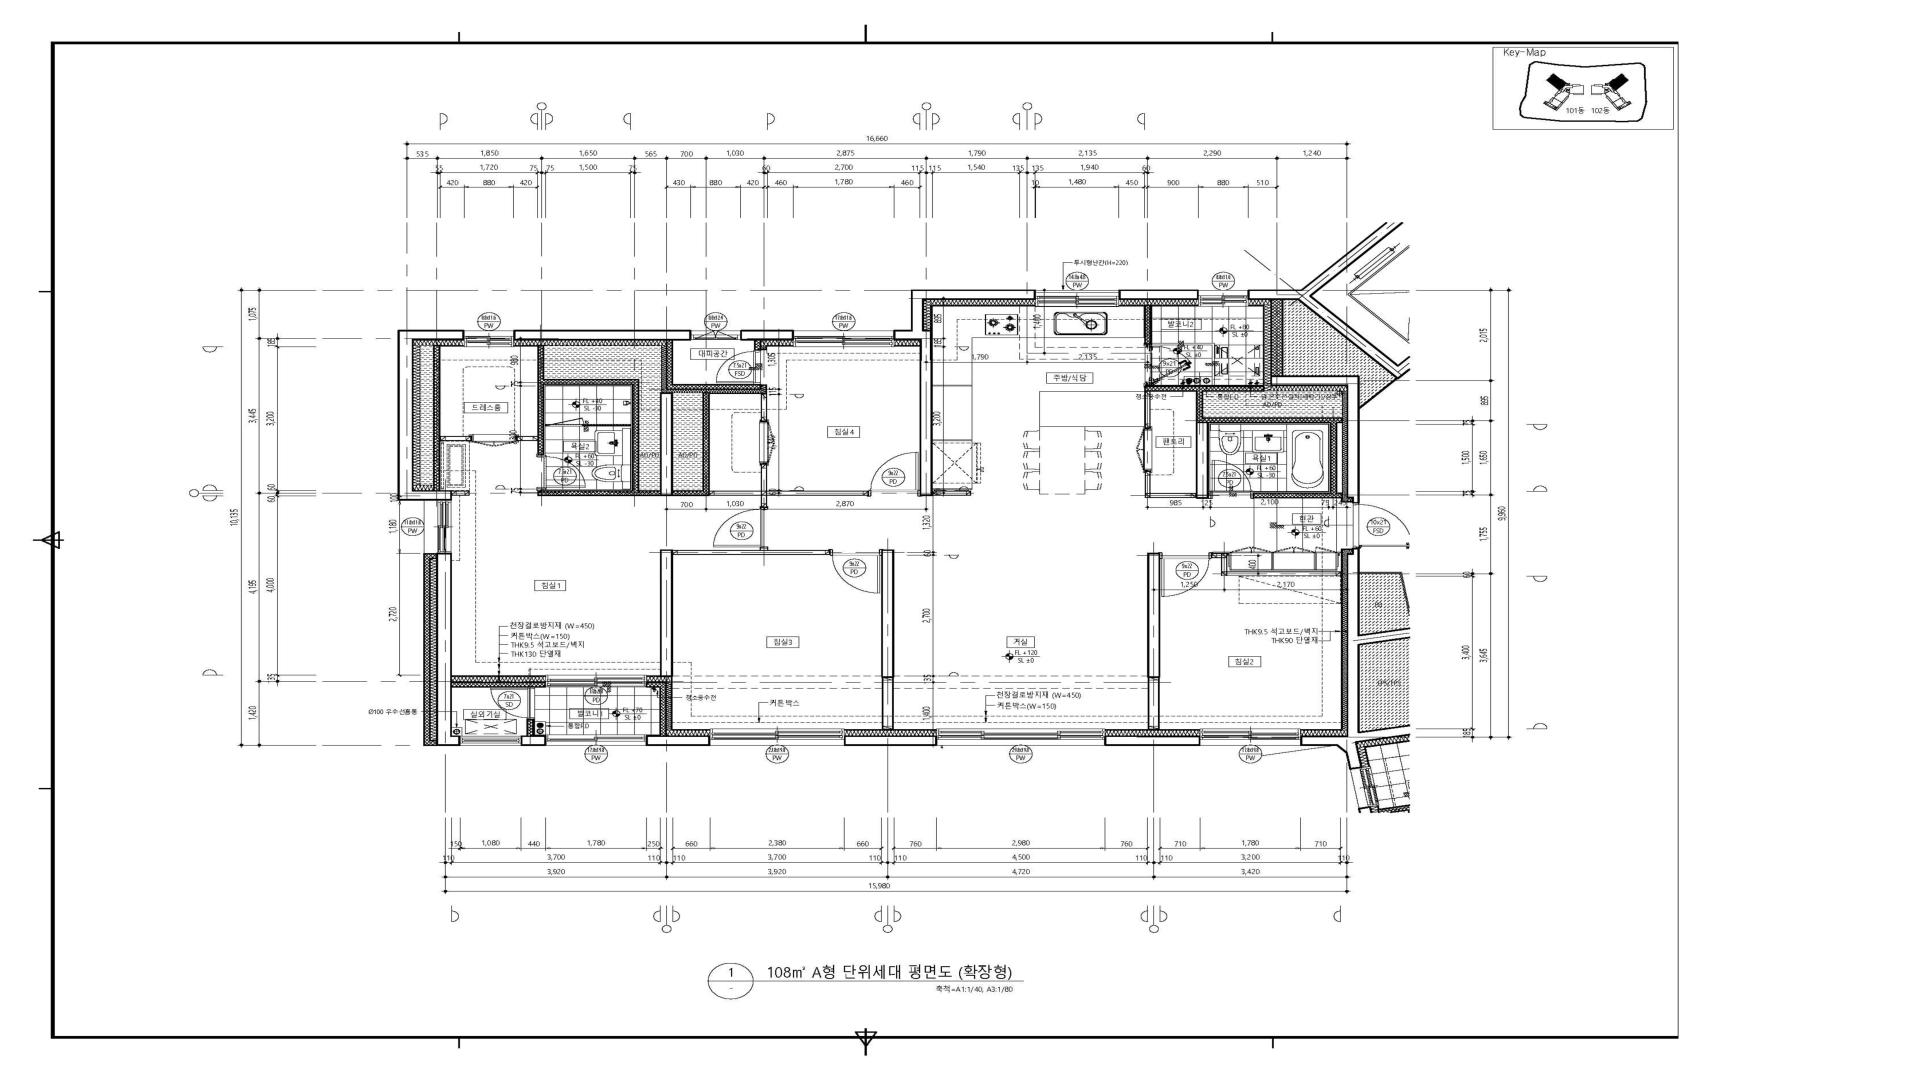door: (1352, 502, 1414, 549), (1160, 553, 1212, 597), (869, 451, 919, 496), (831, 550, 881, 595), (712, 508, 769, 547), (1143, 344, 1195, 385), (537, 455, 585, 491), (1209, 459, 1253, 498), (488, 687, 534, 720), (716, 351, 761, 384), (1134, 429, 1153, 471), (472, 434, 516, 447)
wall: (516, 344, 869, 508), (894, 290, 1036, 496), (1247, 289, 1360, 504), (1145, 385, 1342, 498), (659, 547, 831, 678), (1300, 547, 1360, 746), (397, 330, 464, 501), (433, 345, 472, 491), (666, 340, 762, 390), (436, 553, 460, 746), (1211, 553, 1342, 576), (881, 550, 894, 731), (1147, 553, 1160, 731), (513, 330, 691, 340), (646, 682, 667, 736), (1104, 736, 1200, 746), (844, 736, 938, 746), (1118, 290, 1199, 301), (645, 736, 711, 746), (452, 682, 546, 688), (740, 330, 794, 340), (1143, 305, 1153, 344), (521, 736, 546, 746), (1145, 392, 1151, 430), (932, 491, 976, 496), (761, 393, 767, 422), (526, 719, 534, 736), (452, 491, 469, 496), (754, 340, 761, 351)
window: (936, 728, 1105, 746), (709, 728, 845, 746), (1200, 728, 1302, 746), (793, 330, 894, 347), (545, 675, 646, 688), (1036, 290, 1118, 306), (546, 736, 646, 746), (464, 330, 514, 347), (436, 500, 452, 553), (1199, 290, 1247, 306), (460, 736, 521, 746), (691, 330, 740, 340)
